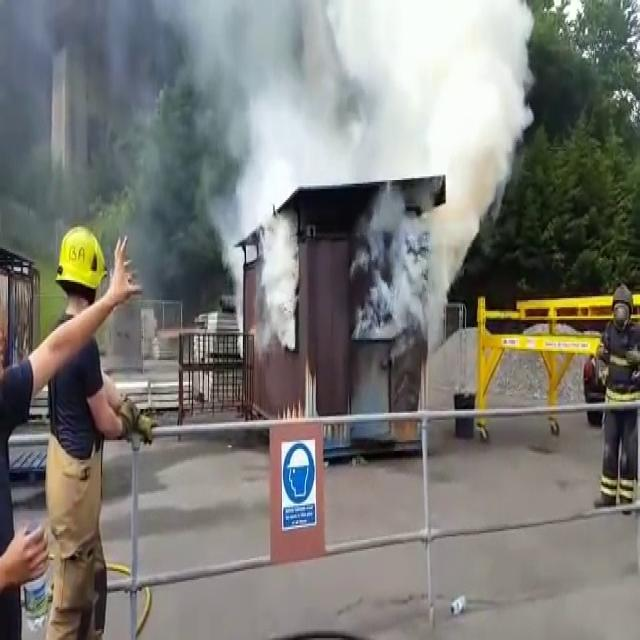Smoke: (186, 0, 518, 364)
